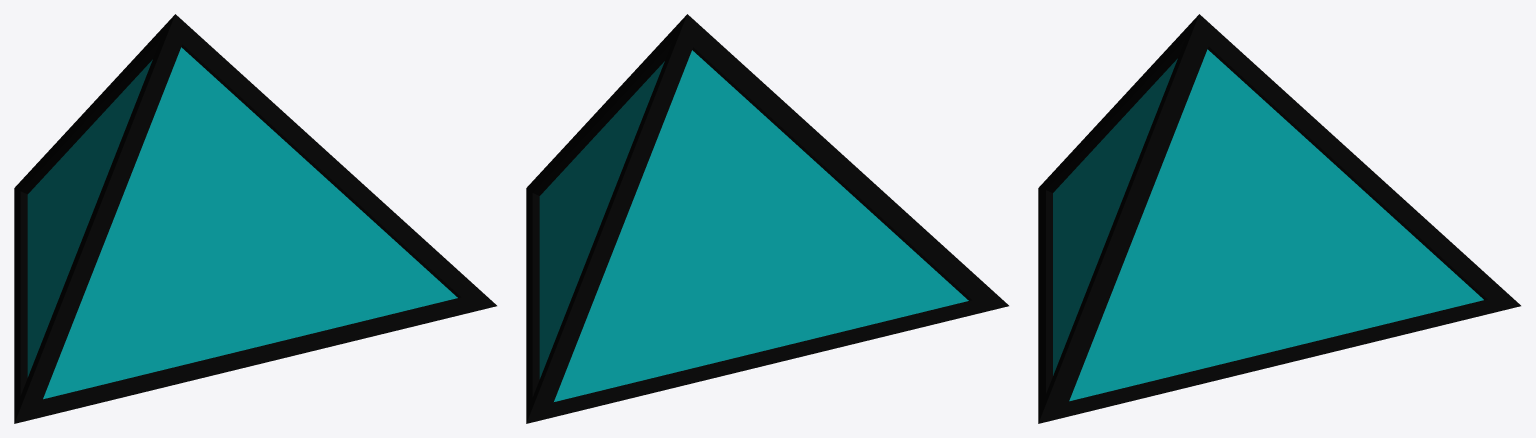
The model's file is SFI0310013.fbx.
The picture shows the model from 3 angles, left to right: view 1: azimuth 30°, elevation 25°; view 2: azimuth 150°, elevation 25°; view 3: azimuth 270°, elevation 25°; orthographic projection.
Parts seen in each view (by area): view 1: smSFI0310013; view 2: smSFI0310013; view 3: smSFI0310013.
Boxes of the visible parts, x1,y1,x2,y2 form: smSFI0310013: [14, 14, 496, 423]; smSFI0310013: [526, 14, 1008, 423]; smSFI0310013: [1038, 14, 1520, 423].
Bounding box in the file's own units: 173 × 100 × 150.
